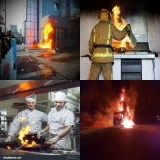fire: (110, 5, 136, 49), (118, 88, 135, 127), (16, 126, 43, 148), (40, 21, 55, 49)
